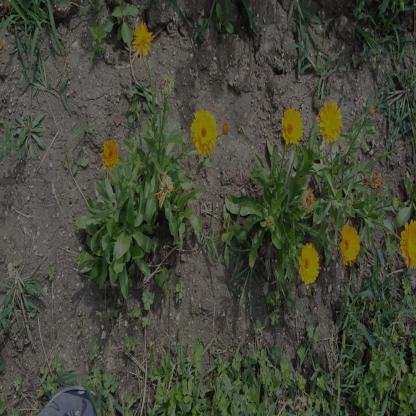marigold: (190, 108, 216, 152), (282, 103, 304, 144), (130, 20, 152, 61), (299, 246, 320, 284), (320, 100, 342, 136), (340, 225, 360, 264), (400, 227, 416, 263), (102, 136, 118, 168)
